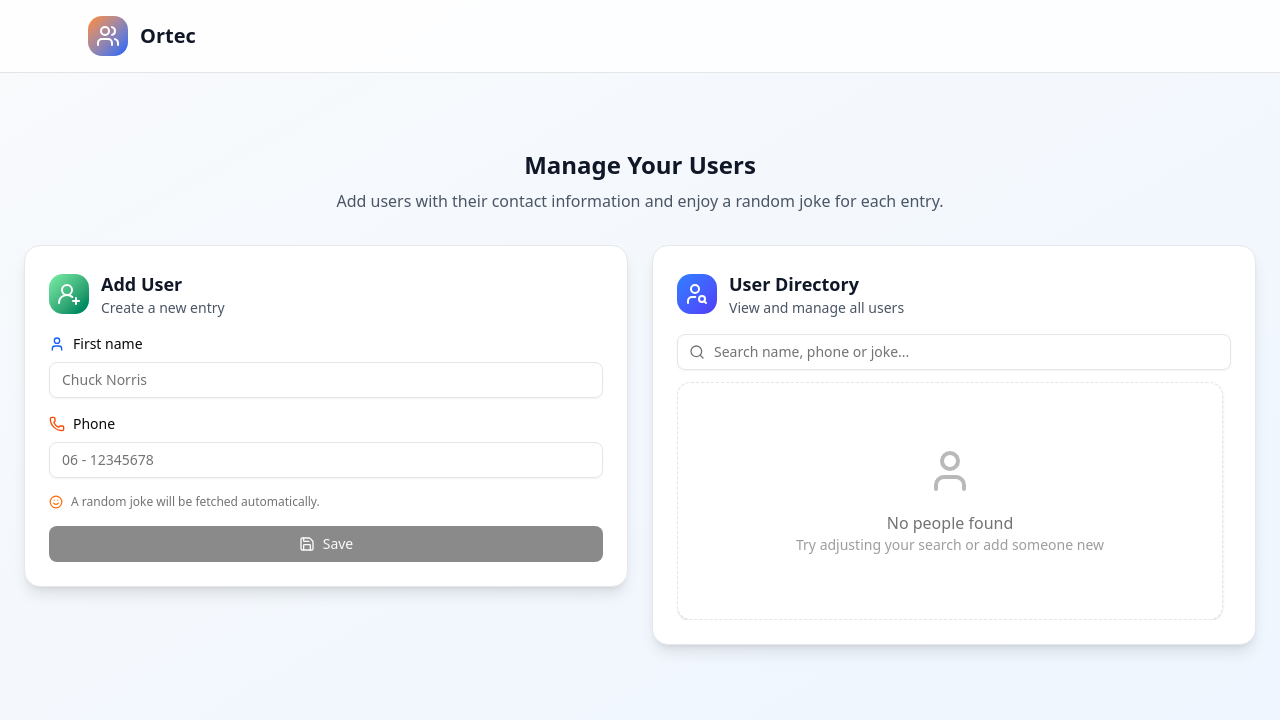
Essential User Management Tests › Happy Flow › should add a contact successfully
The width and height of the screenshot is (1280, 720).
In the field with test id "first-name-input": {"x": 326, "y": 380} [49,362,603,398], type "John Doe"
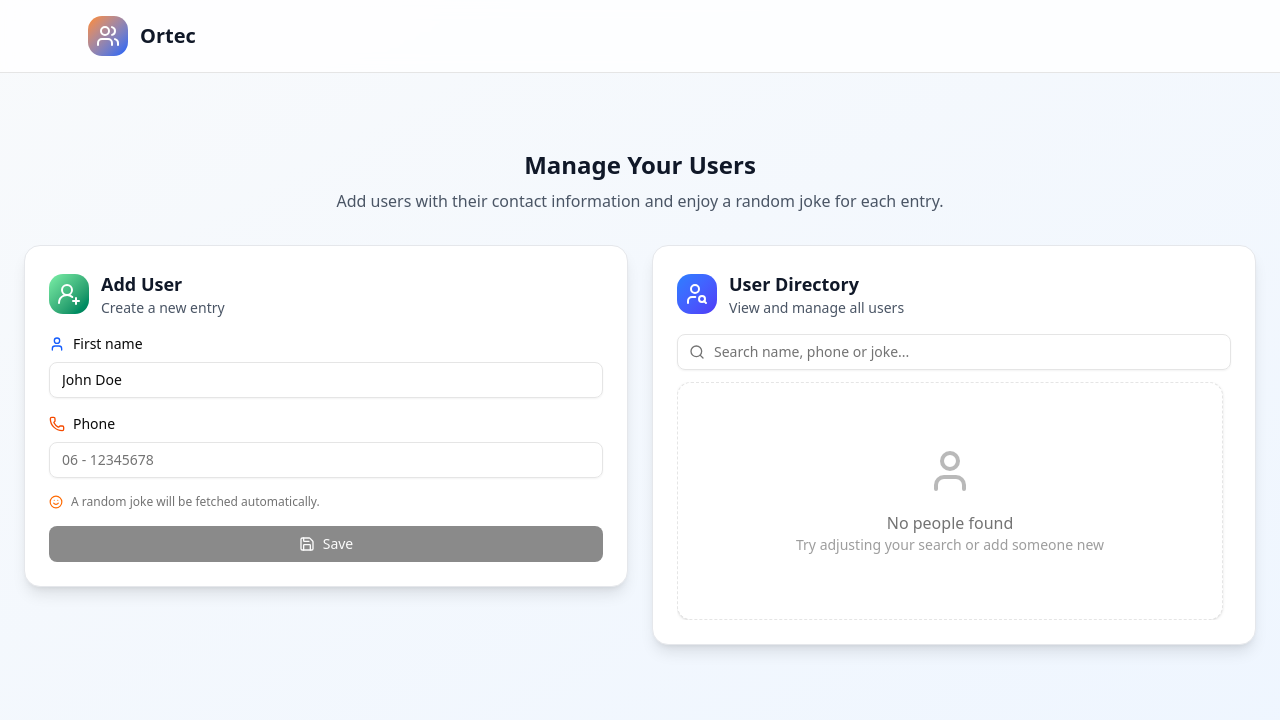
In the field with test id "phone-number-input": {"x": 326, "y": 460} [49,442,603,478], type "0612345678"
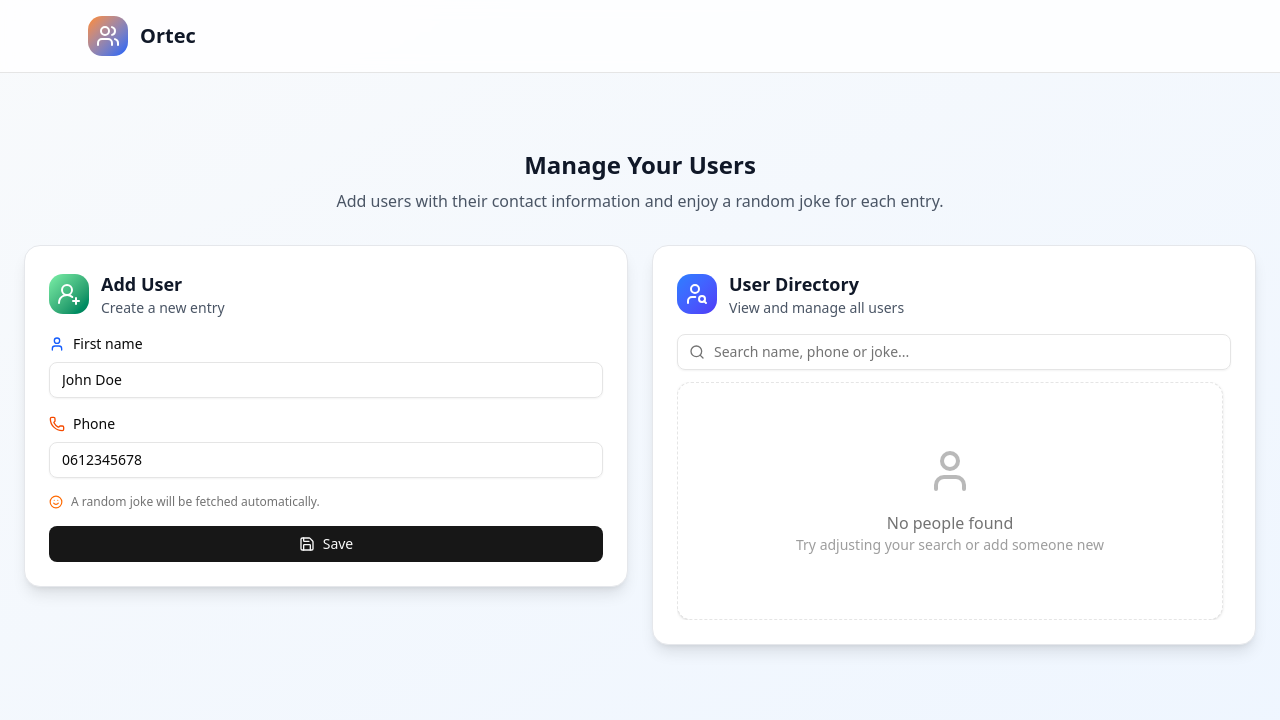
Expected: the element with test id "submit-button" is enabled
Click the button with test id "submit-button": {"x": 326, "y": 544} [49,526,603,562]
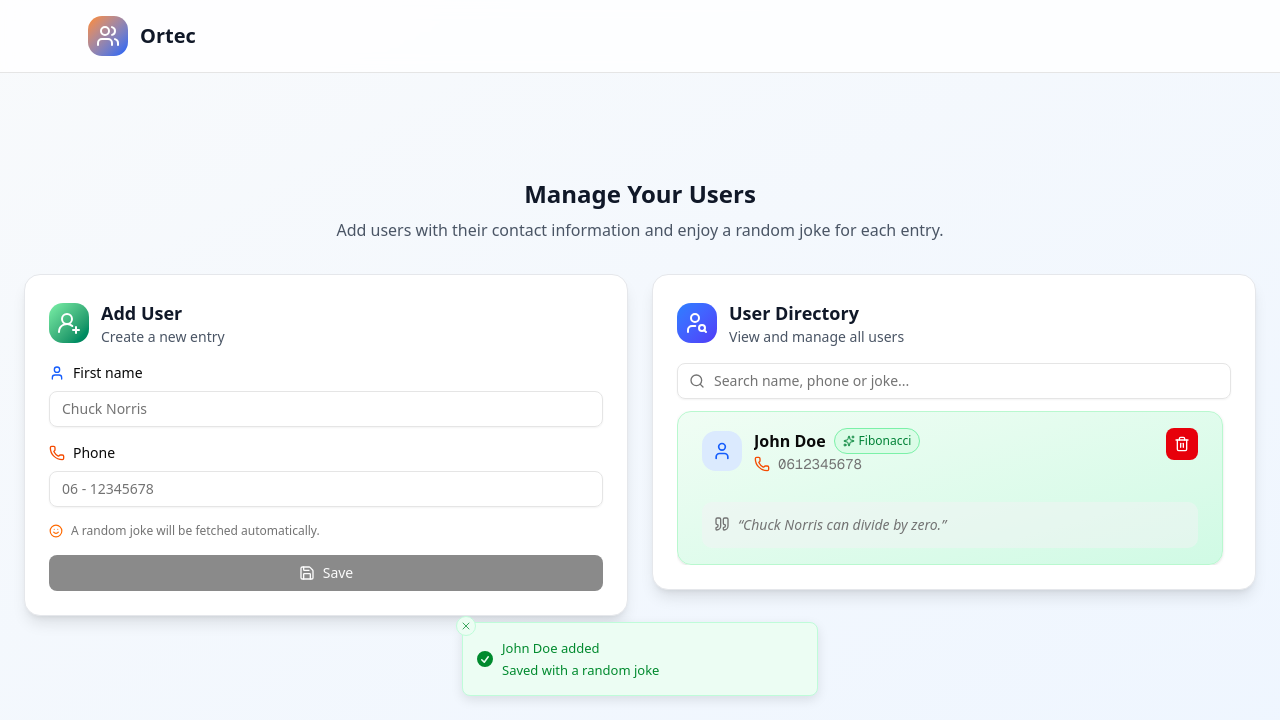
Now the list item "John Doe added Saved with a random joke" is shown, box [462,622,818,696]
Now the text "John Doe added" is shown, box [502,639,600,657]
Now the heading "John Doe" is shown, box [754,428,826,452]
